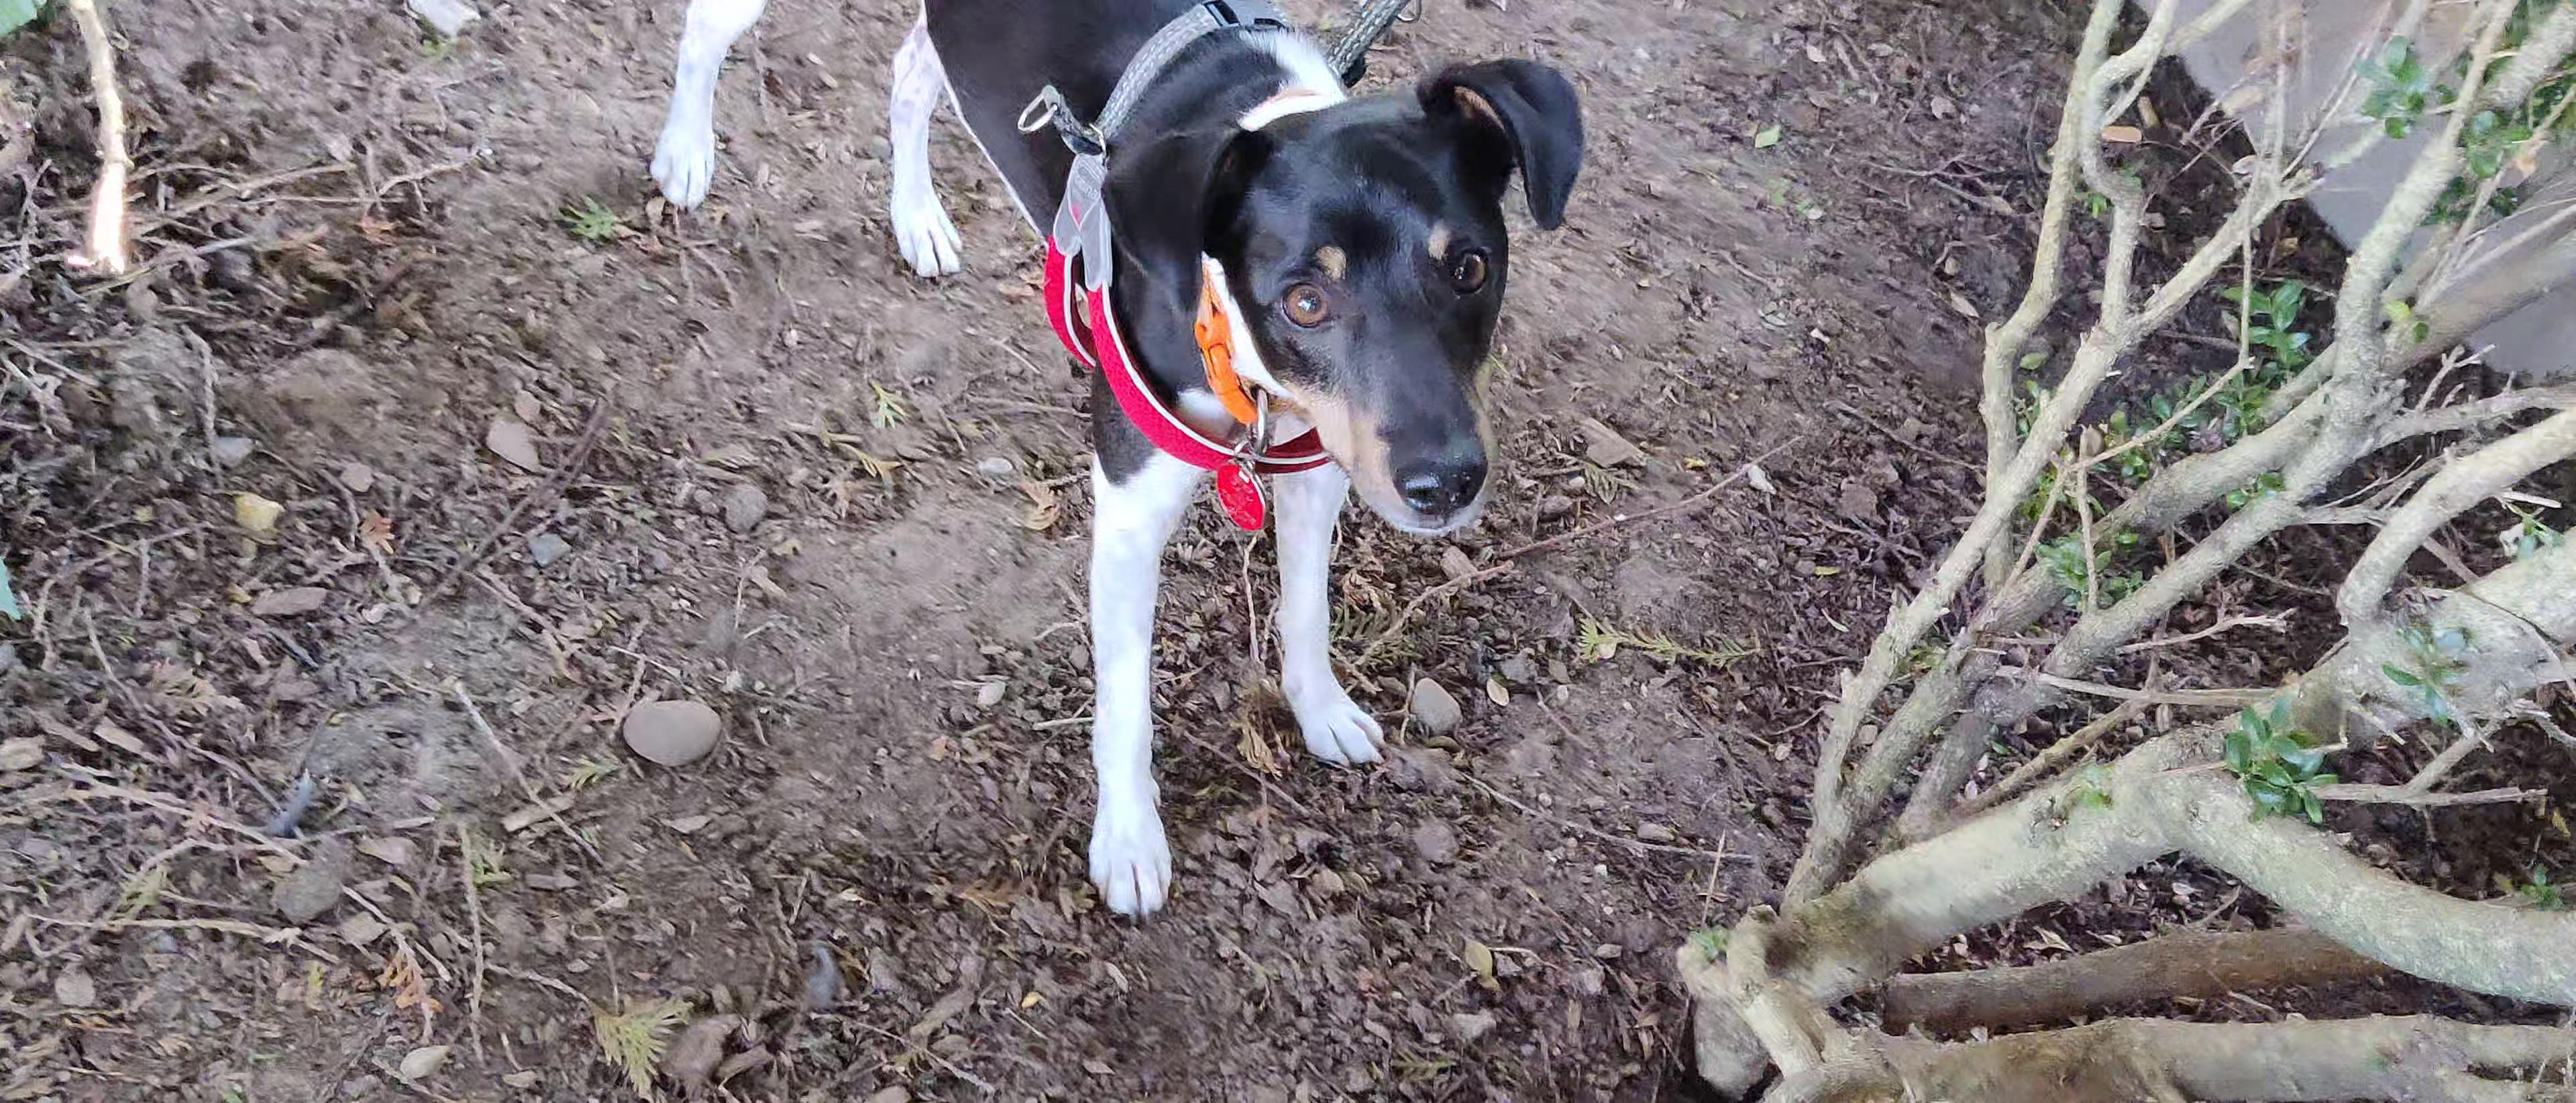Dog: (603, 0, 1636, 953)
